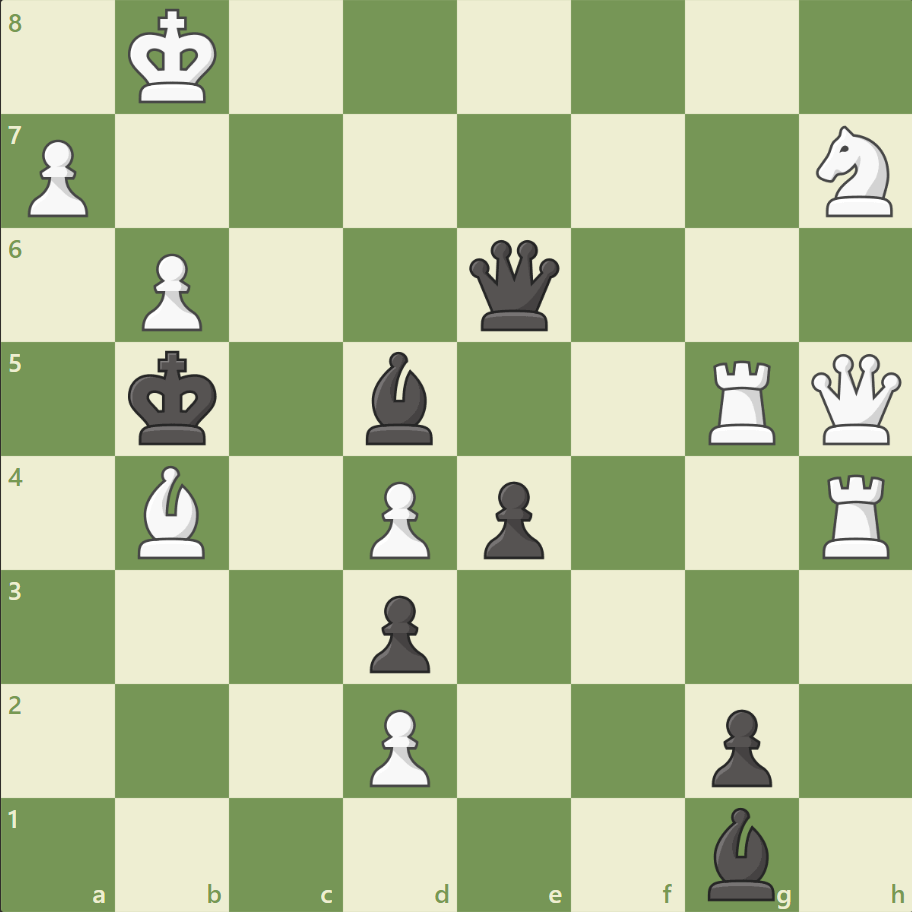B: (131, 460, 215, 563)
K: (124, 4, 224, 112)
N: (806, 121, 903, 223)
P: (20, 132, 95, 223), (133, 246, 208, 337), (361, 473, 435, 564), (361, 700, 435, 791)
Q: (805, 349, 904, 449)
R: (700, 352, 783, 449), (814, 466, 897, 563)
b: (698, 801, 782, 904), (358, 347, 442, 449)
k: (124, 344, 224, 452)
p: (474, 473, 549, 564), (701, 700, 776, 791), (361, 586, 435, 677)
q: (464, 236, 563, 335)
